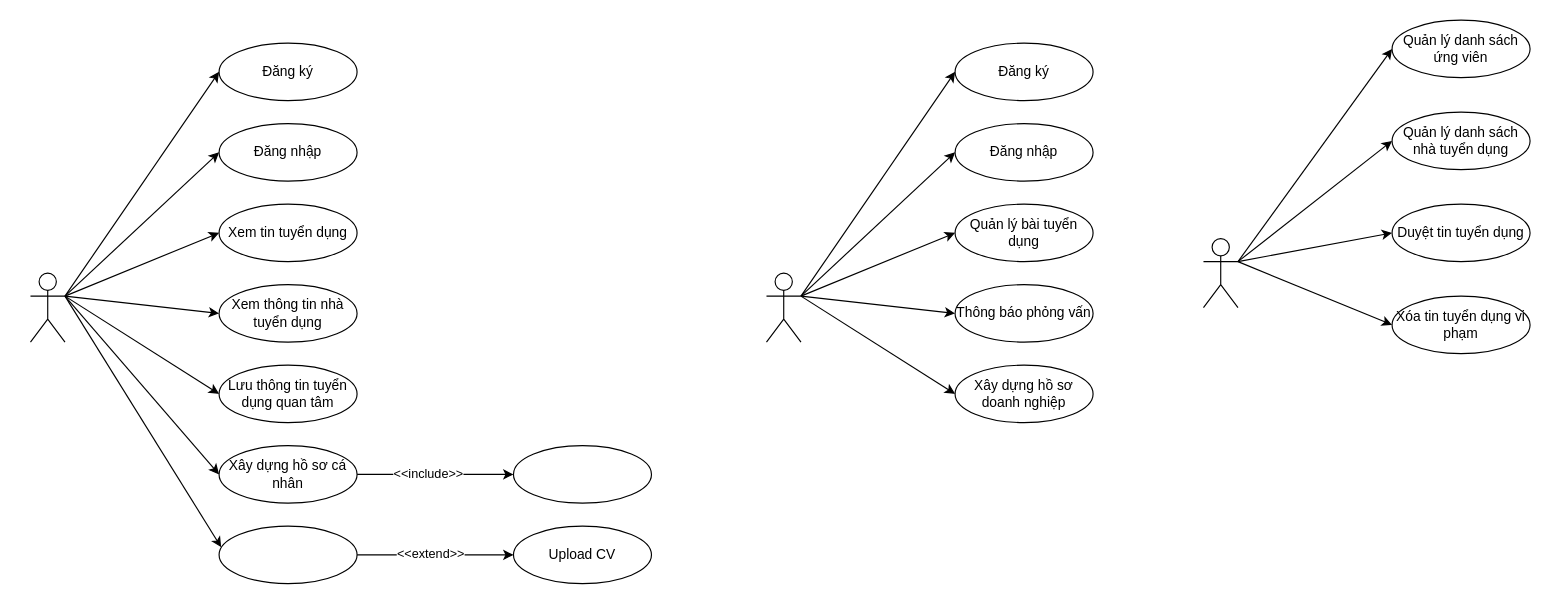
Image size: 1550x604. Some labels were removed from this diagram. The shapes that lost their labels are listed below. From the top down, each one's box as (x1, y1, x2, y2) in pixels, then its label:
(1202, 237, 1238, 308): Quản trị viên
(29, 272, 65, 342): Ứng viên
(765, 272, 801, 342): Nhà tuyển dụng
(512, 444, 651, 503): Upload thông tin
(218, 525, 357, 584): Ứng tuyển trực tuyến
